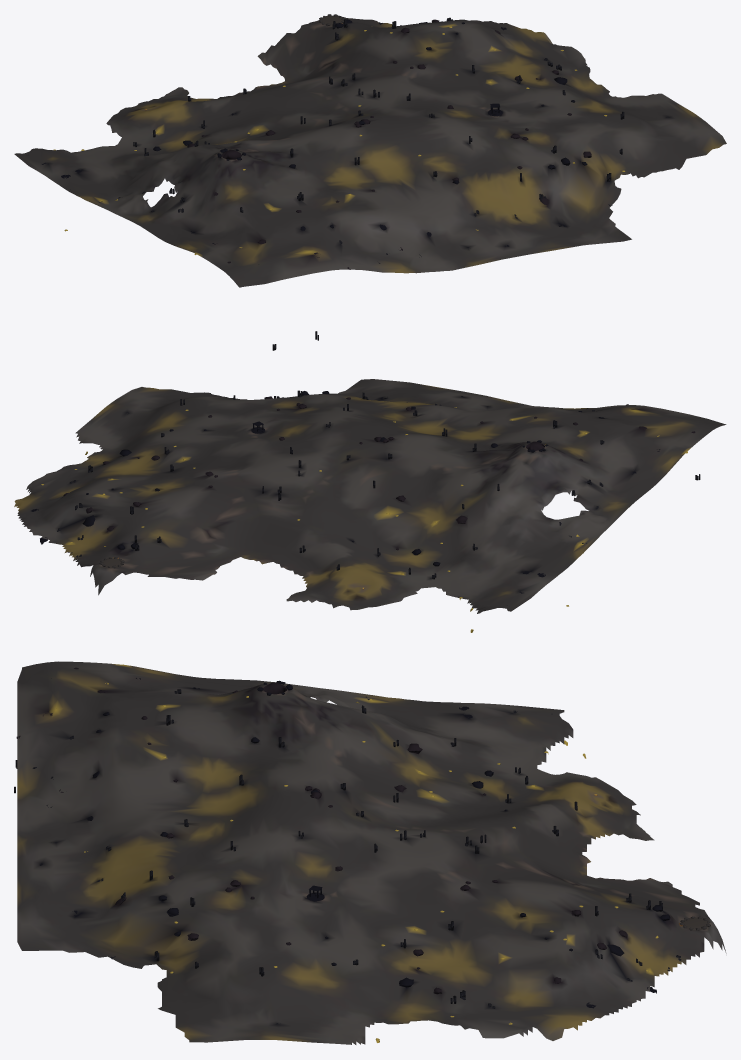
The model's file is ash_isl_vent_lod1.glb.
The picture shows the model from 3 angles, top to bottom: view 1: azimuth 30°, elevation 25°; view 2: azimuth 150°, elevation 25°; view 3: azimuth 270°, elevation 25°; orthographic projection. The views are drawn at different scales.
Parts seen in each view (by area): view 1: ash_isl_vent_lod1; view 2: ash_isl_vent_lod1; view 3: ash_isl_vent_lod1.
Part boxes in pixels (x1,y1,x2,y2): ash_isl_vent_lod1: (14, 14, 726, 350); ash_isl_vent_lod1: (14, 379, 726, 632); ash_isl_vent_lod1: (14, 661, 726, 1044).
Bounding box in the file's own units: 341 × 59.42 × 316.
